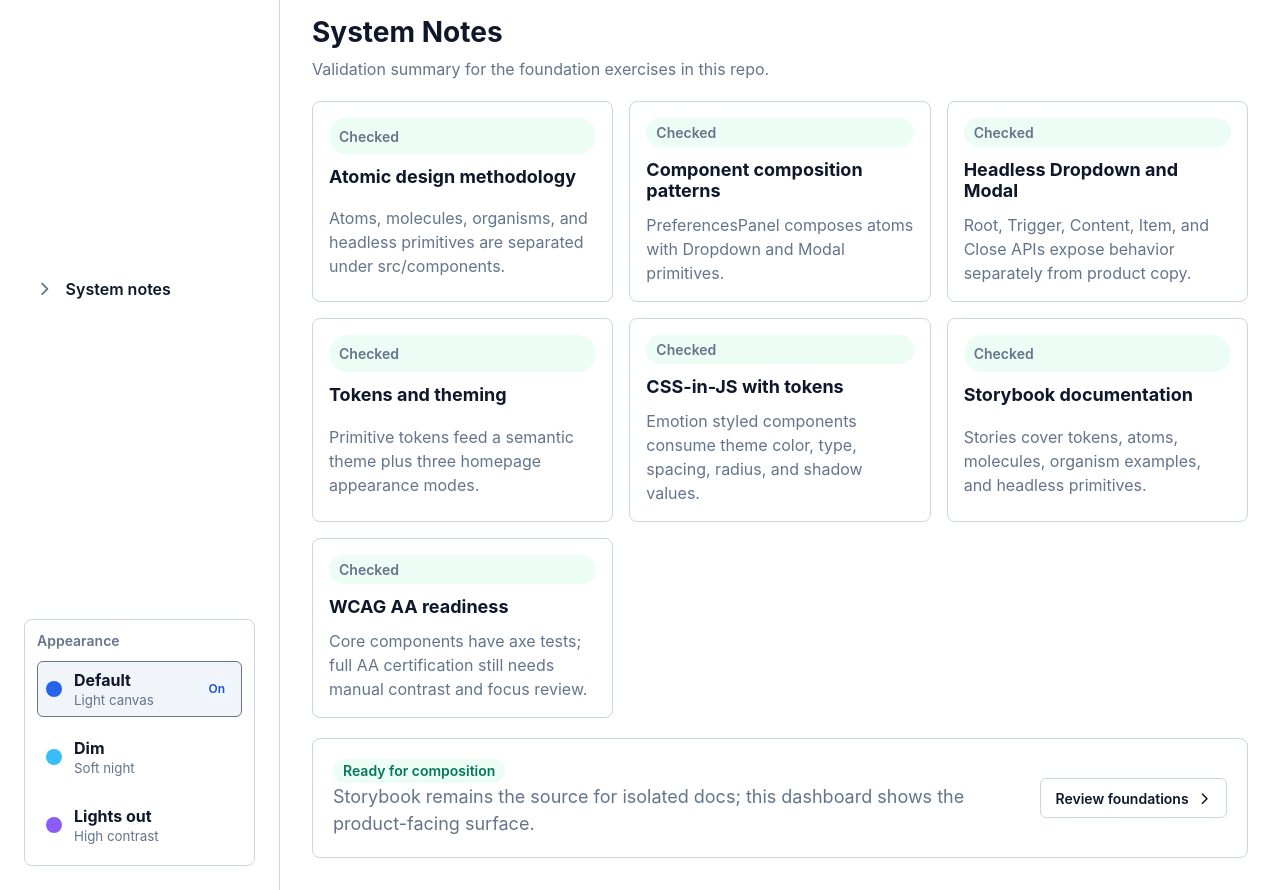
Test: HomePage › supports theme switching, dropdown actions, and modal interactions
The width and height of the screenshot is (1280, 890).
(page scrolled)
Click the button "Dim Soft night": (140,757) x1=37 y1=729 x2=242 y2=785
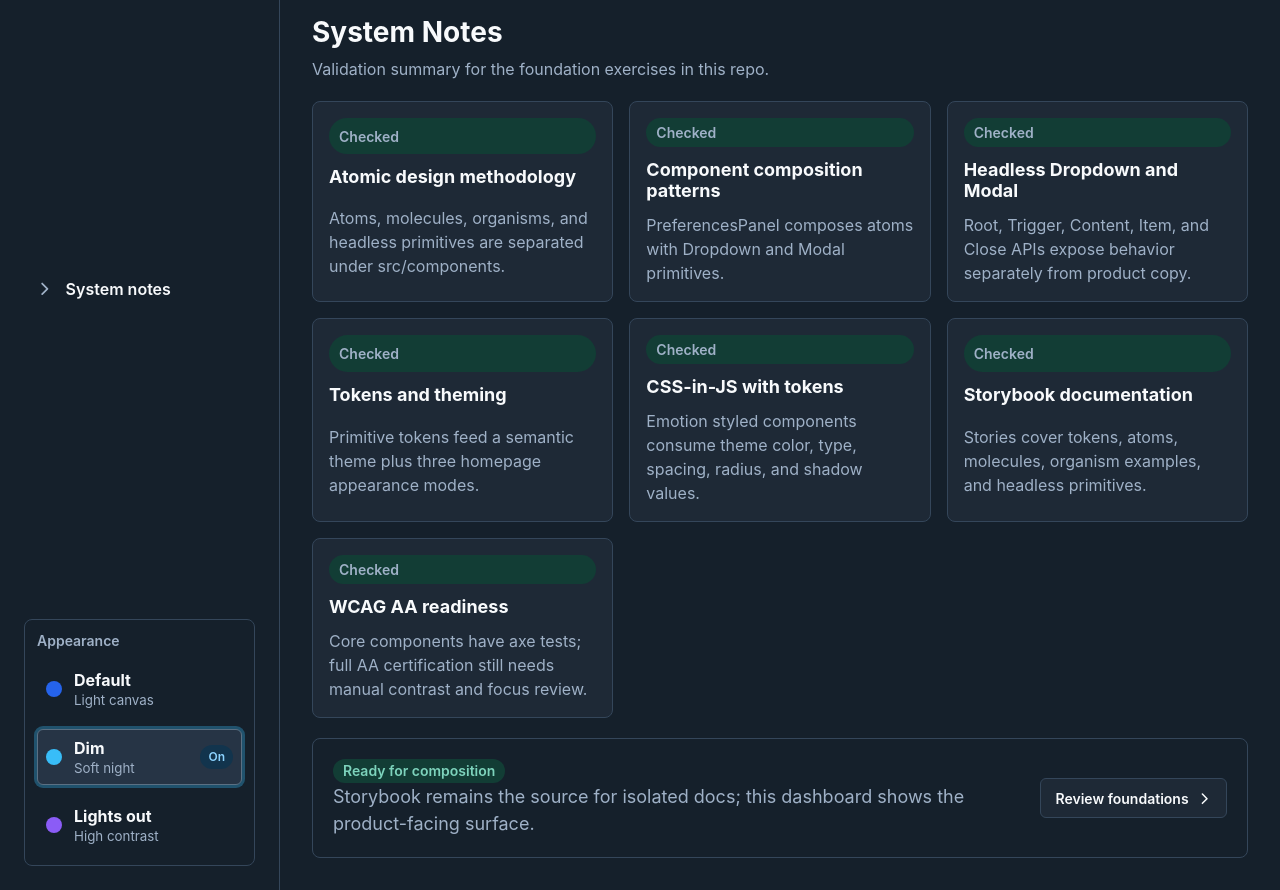
Now the button "Dim Soft night On" is pressed, box x1=37 y1=729 x2=242 y2=785
Scroll
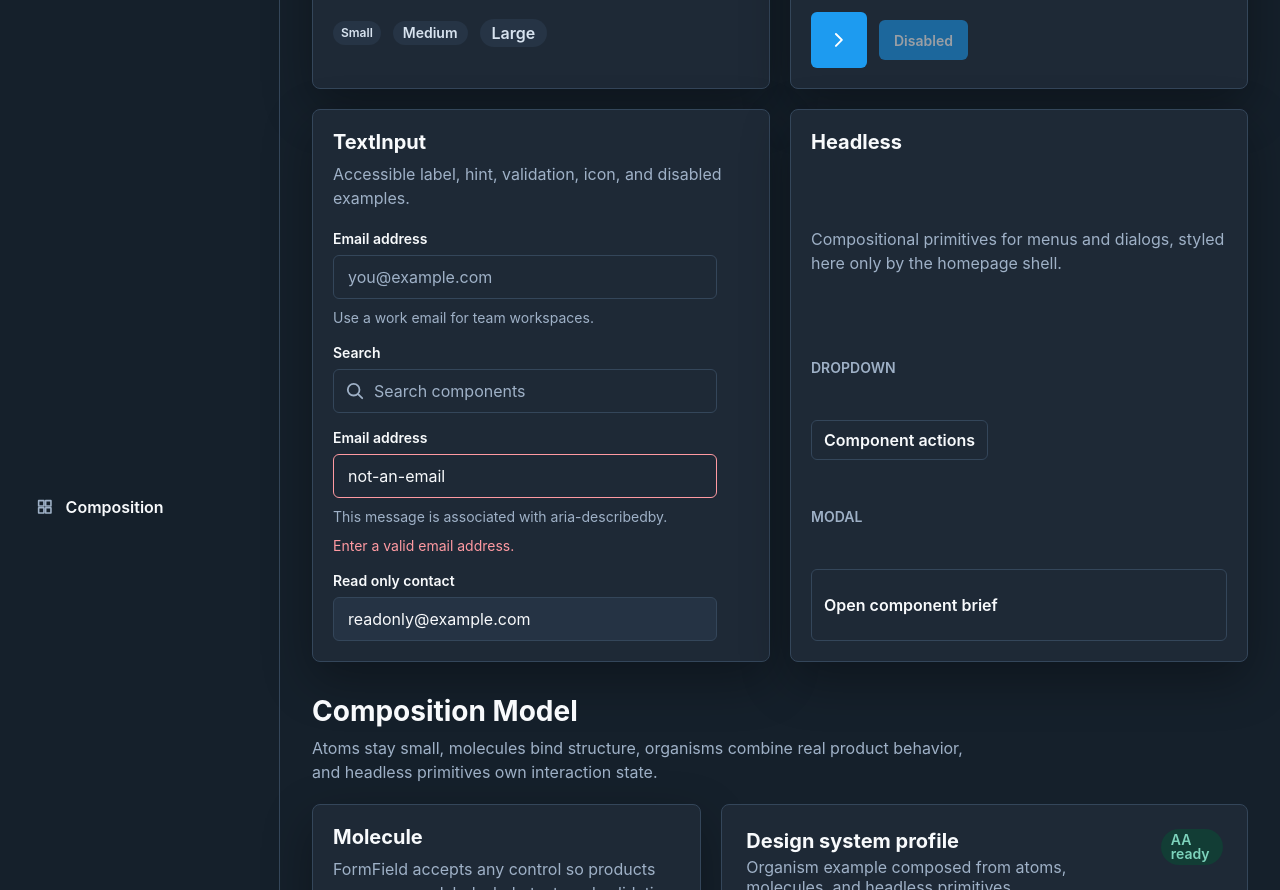
Click the button "Component actions": (900,440) x1=811 y1=420 x2=988 y2=460
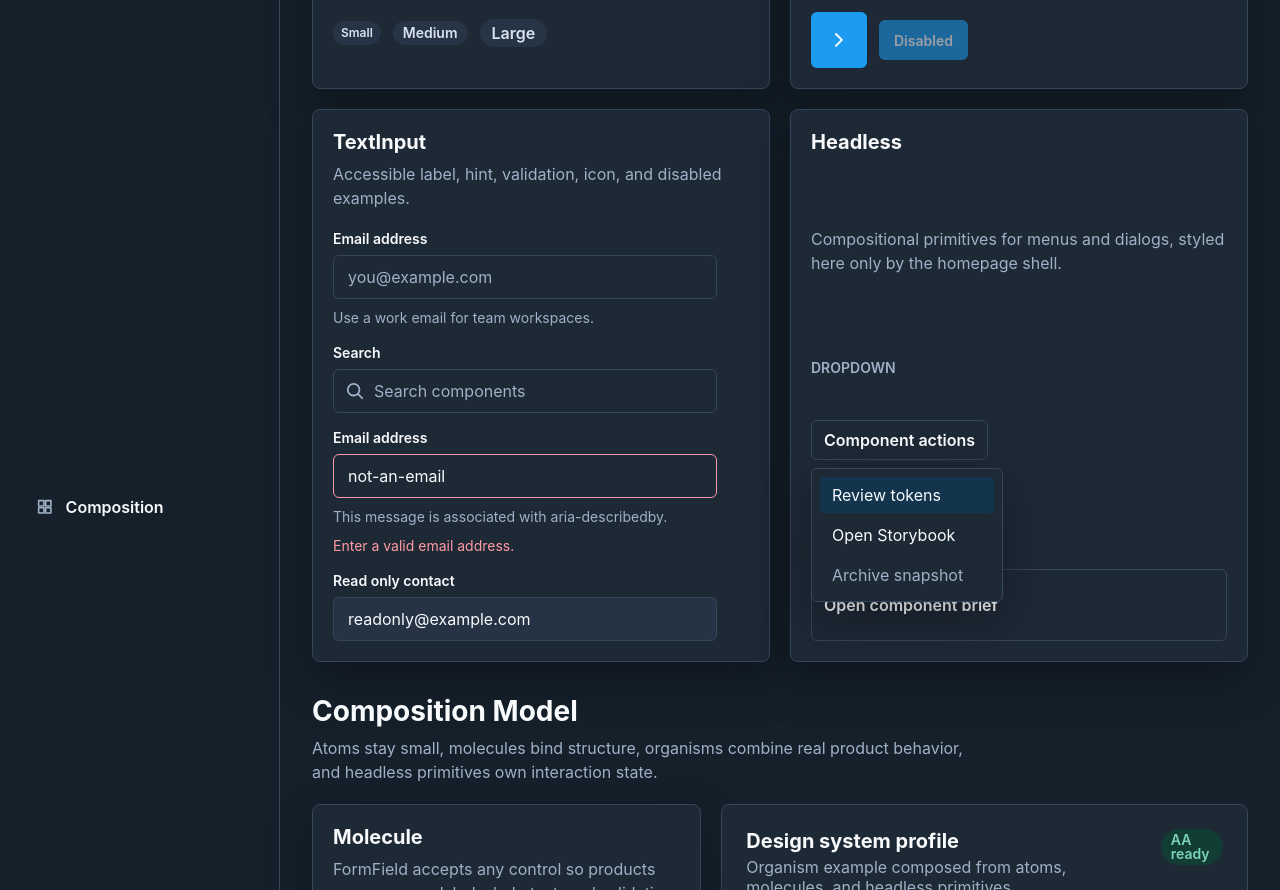
Click the menu item "Review tokens": (907,495) x1=820 y1=477 x2=994 y2=513
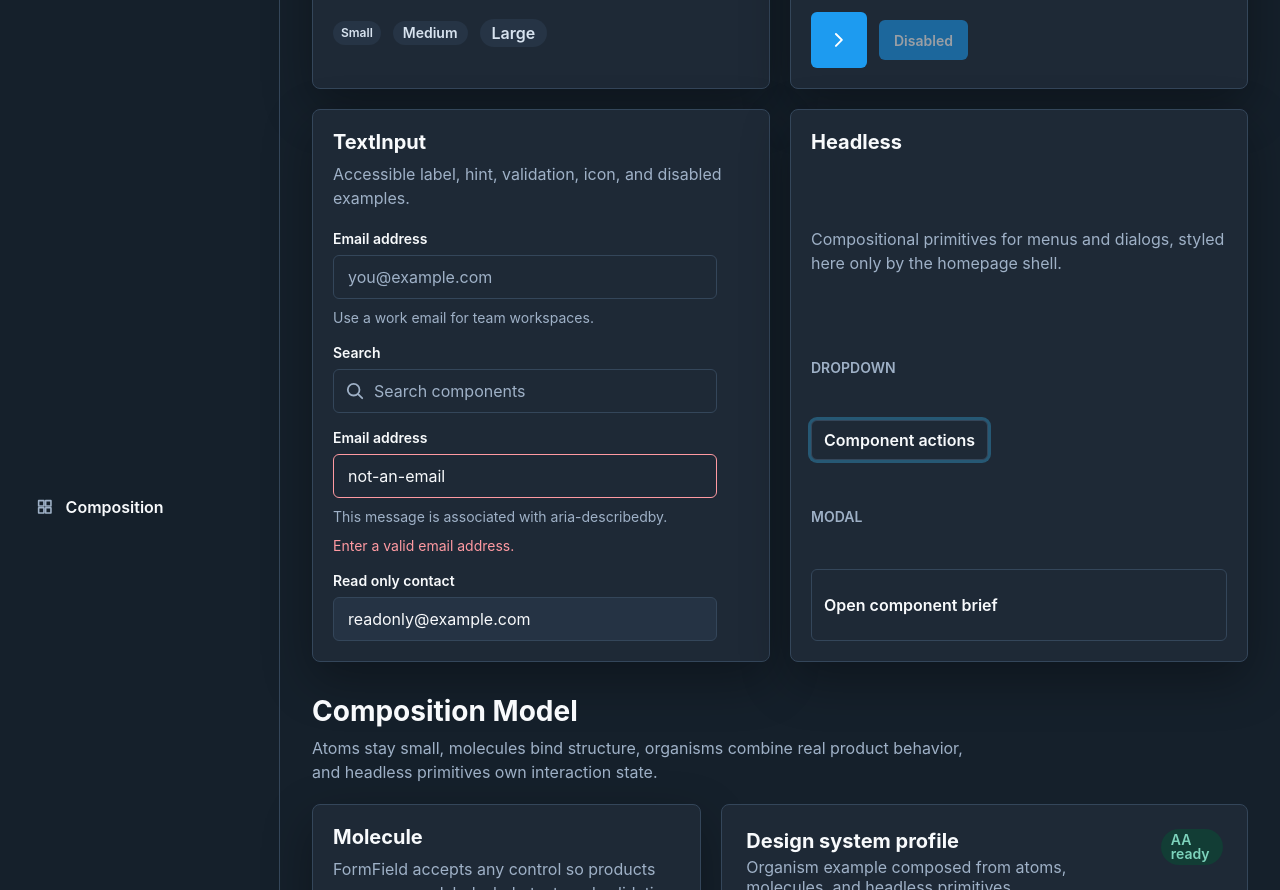
Click the button "Open component brief": (911,605) x1=811 y1=569 x2=1227 y2=641
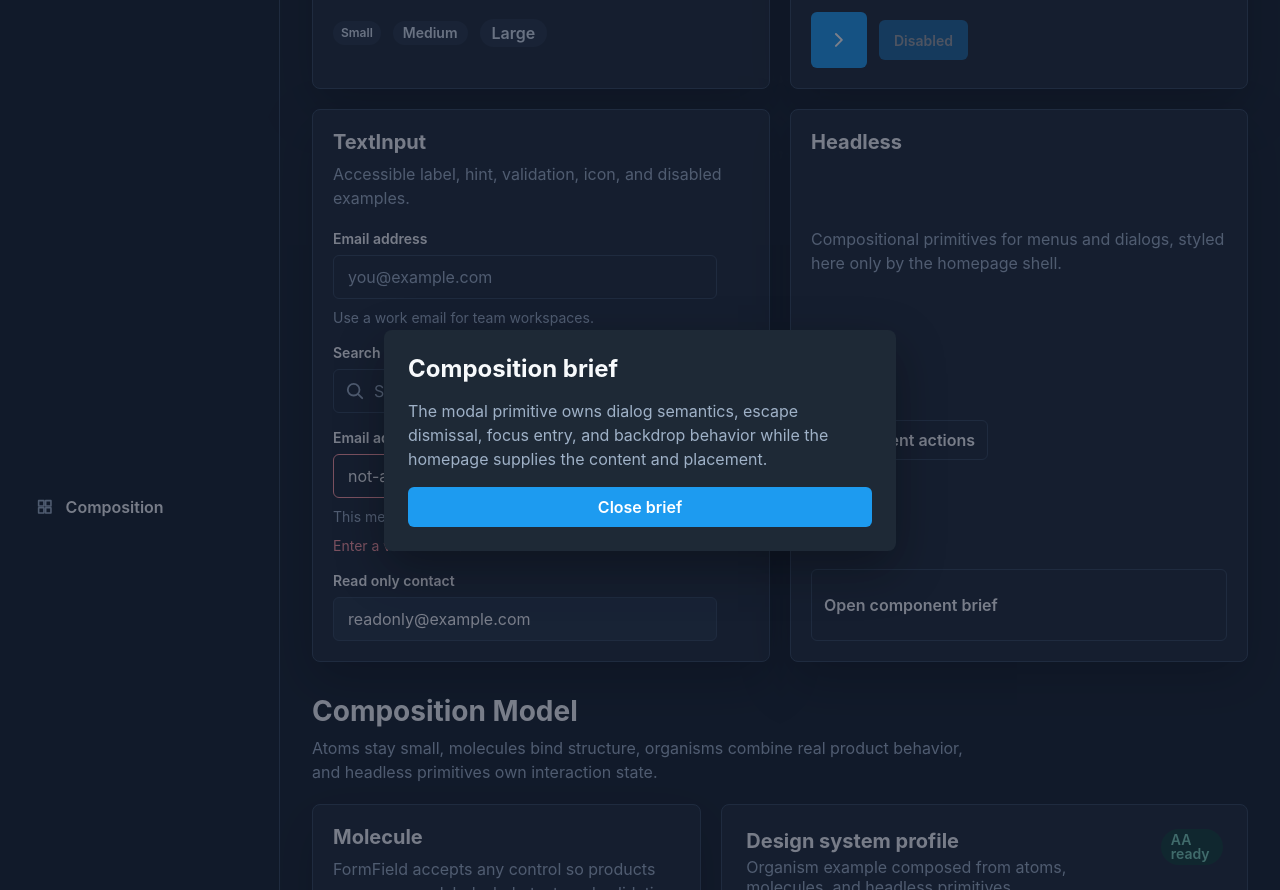
Now the dialog shows "Composition brief", box x1=384 y1=330 x2=896 y2=551
Click the button "Close brief": (640,507) x1=408 y1=487 x2=872 y2=527
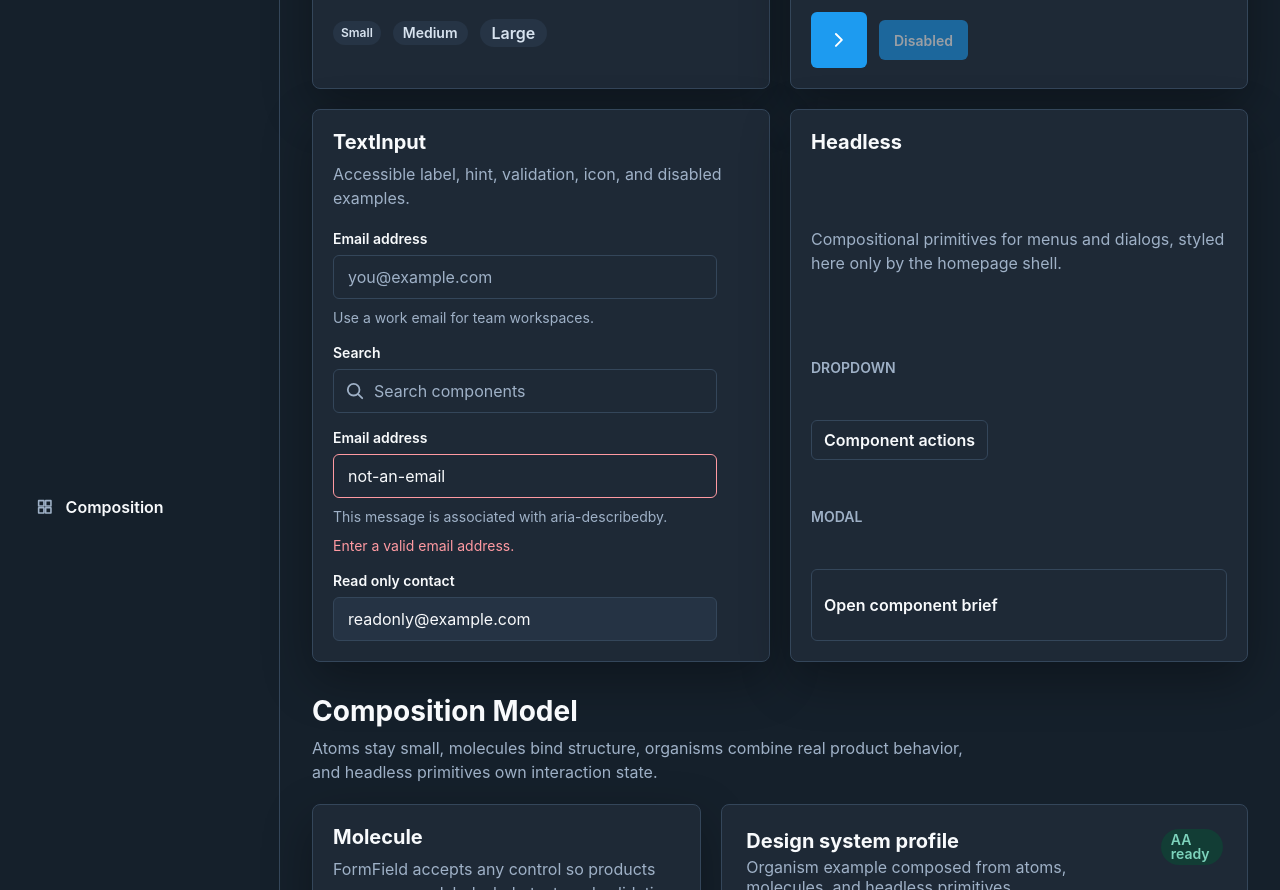
Now the dialog is gone
